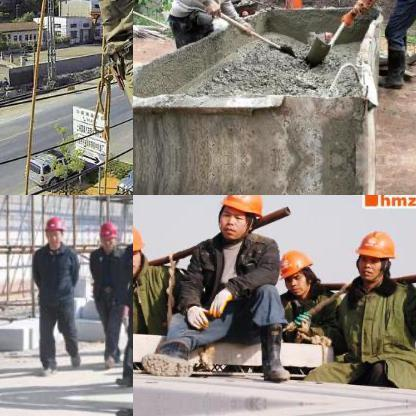Helmet: (352, 224, 398, 282), (215, 195, 268, 245), (274, 246, 318, 296), (42, 212, 64, 246), (96, 216, 118, 250), (133, 217, 145, 276)
